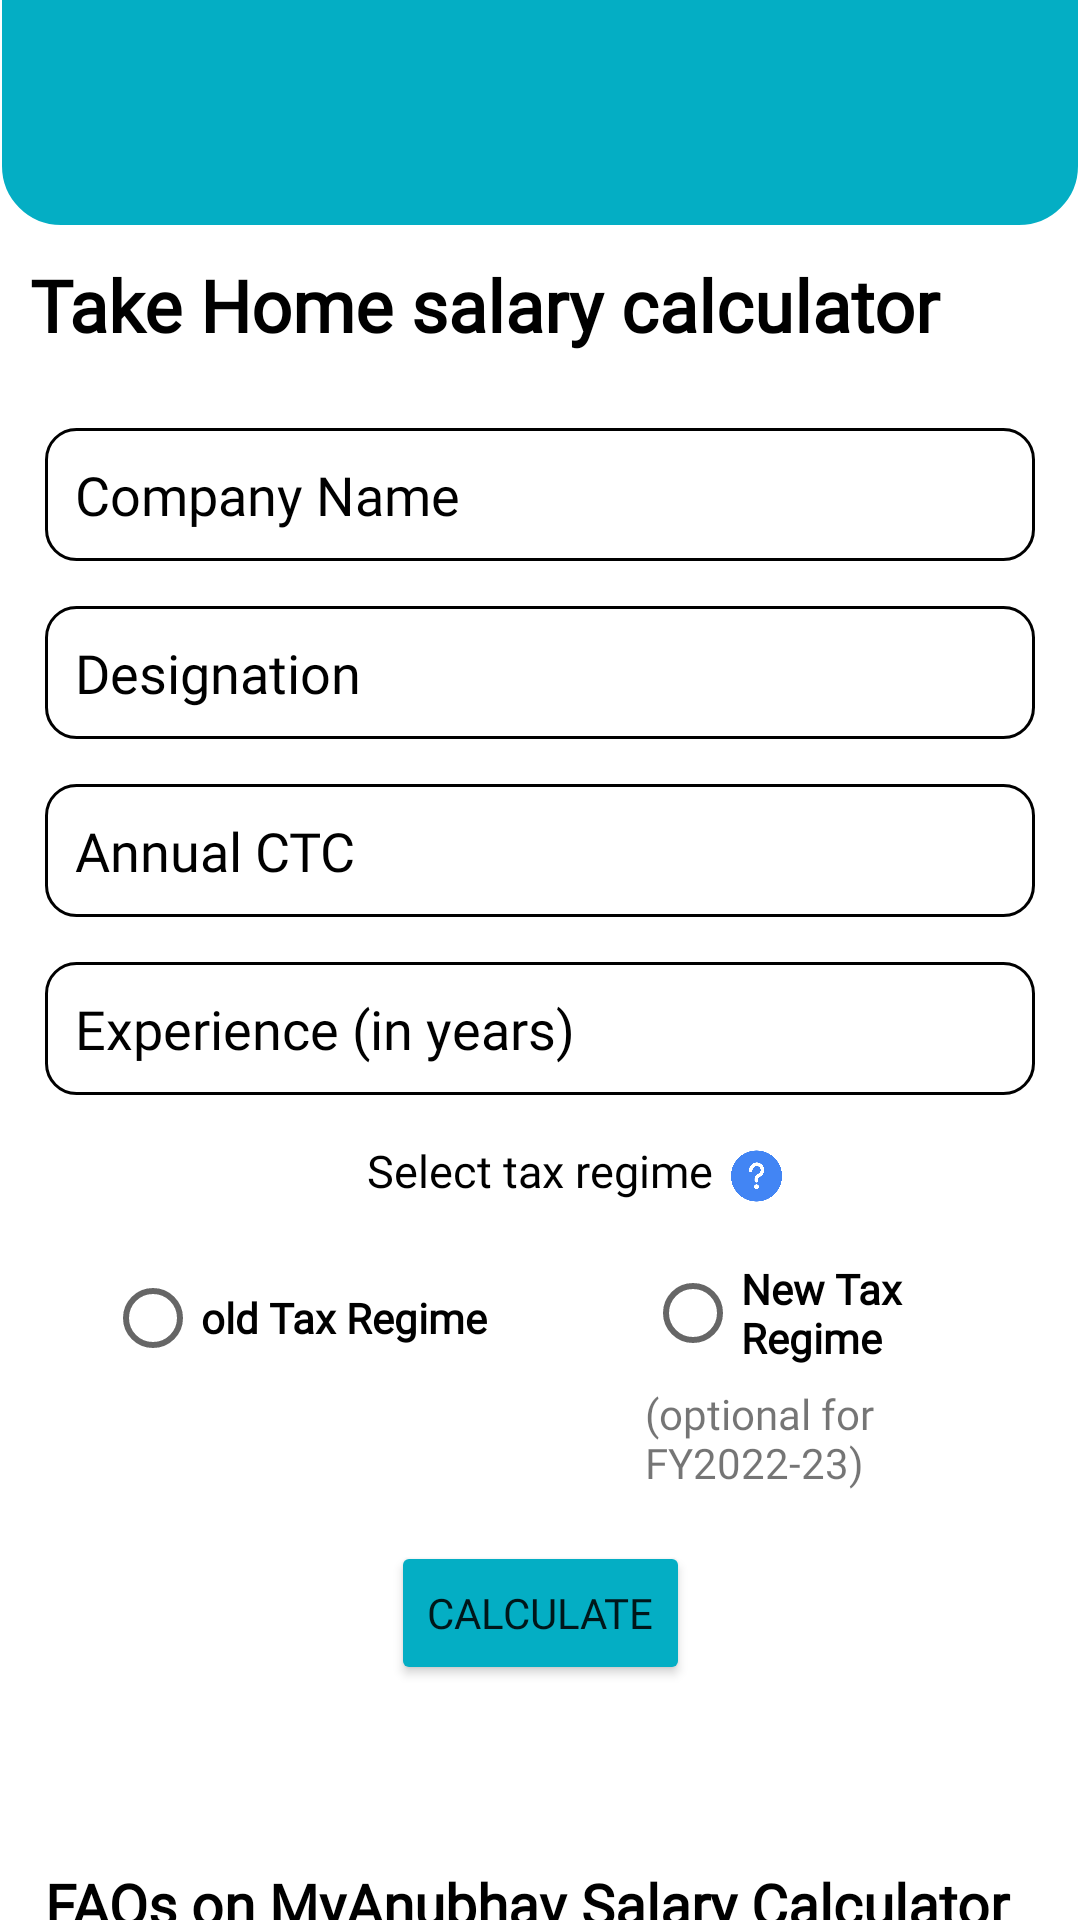

Point at icon controls on the screen. Image size 1080 x 1920, points as [x,y].
helpone: [756,1176]
